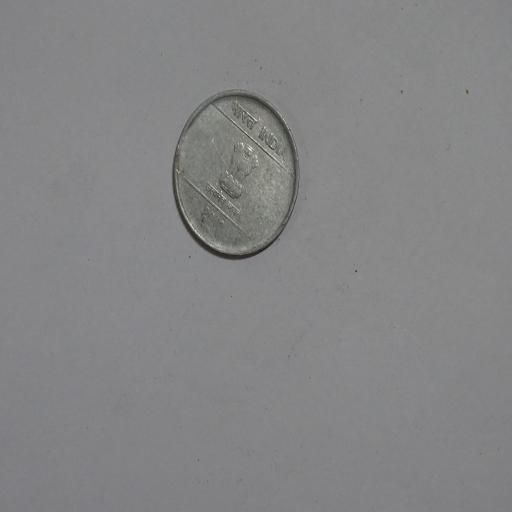rupee1: (170, 90, 300, 259)
